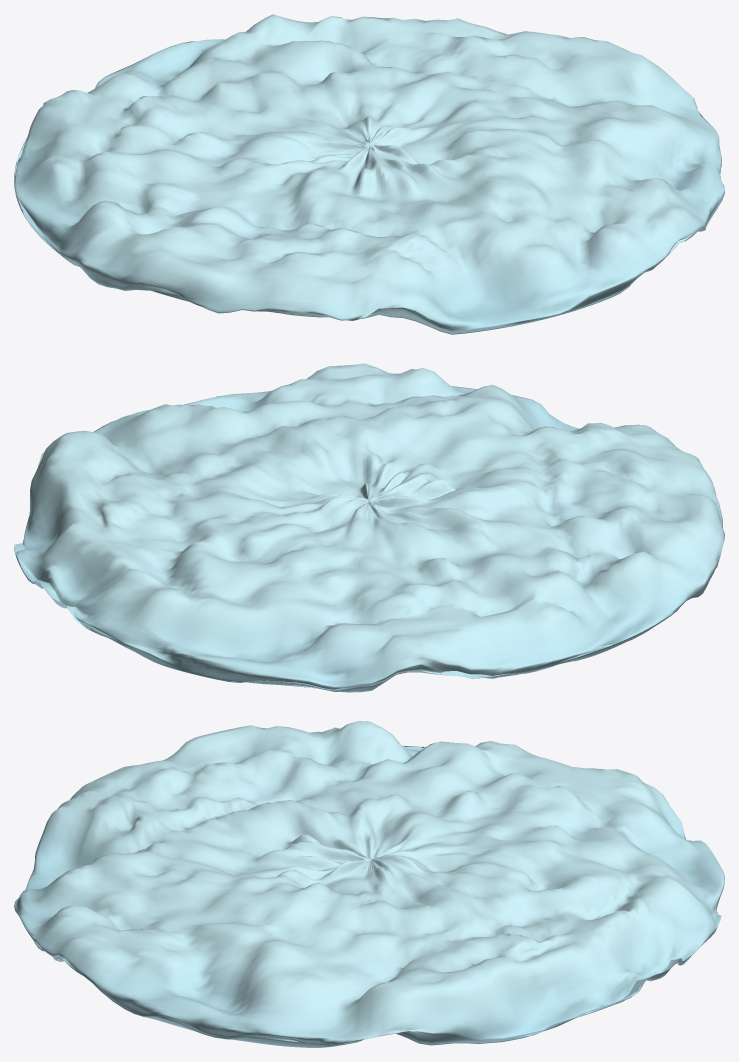
Rendered from Snow.fbx.
The picture shows the model from 3 angles, top to bottom: view 1: azimuth 30°, elevation 25°; view 2: azimuth 150°, elevation 25°; view 3: azimuth 270°, elevation 25°; orthographic projection.
Visible parts, largest first — view 1: pCylinder1; view 2: pCylinder1; view 3: pCylinder1.
Boxes of the visible parts, bbox=[...] form: pCylinder1: bbox=[14, 14, 724, 334]; pCylinder1: bbox=[14, 363, 724, 692]; pCylinder1: bbox=[14, 721, 724, 1047].
Bounding box in the file's own units: 9.92 × 0.9717 × 9.73.
